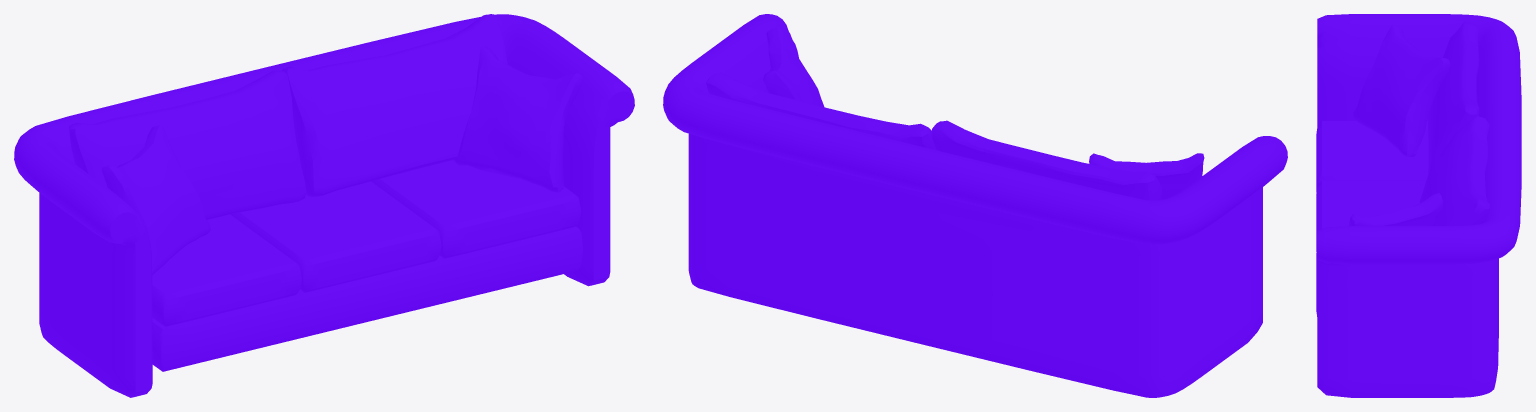
File: Couch.fbx
3 views of the same model, side by side, from view 1: azimuth 30°, elevation 25°; view 2: azimuth 150°, elevation 25°; view 3: azimuth 270°, elevation 25° (orthographic). The views are drawn at different scales.
Visible parts, largest first — view 1: PillowSmall2; view 2: PillowSmall2; view 3: PillowSmall2.
Part boxes in pixels (x1,y1,x2,y2): PillowSmall2: [14, 14, 634, 397]; PillowSmall2: [663, 14, 1287, 397]; PillowSmall2: [1316, 14, 1521, 397].
Bounding box in the file's own units: 256 × 98.15 × 97.38.
